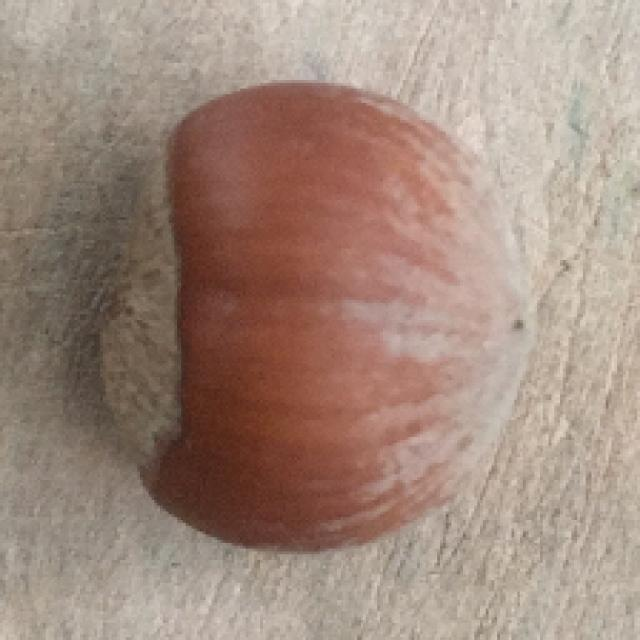QualityHazelnut: (99, 81, 539, 554)
